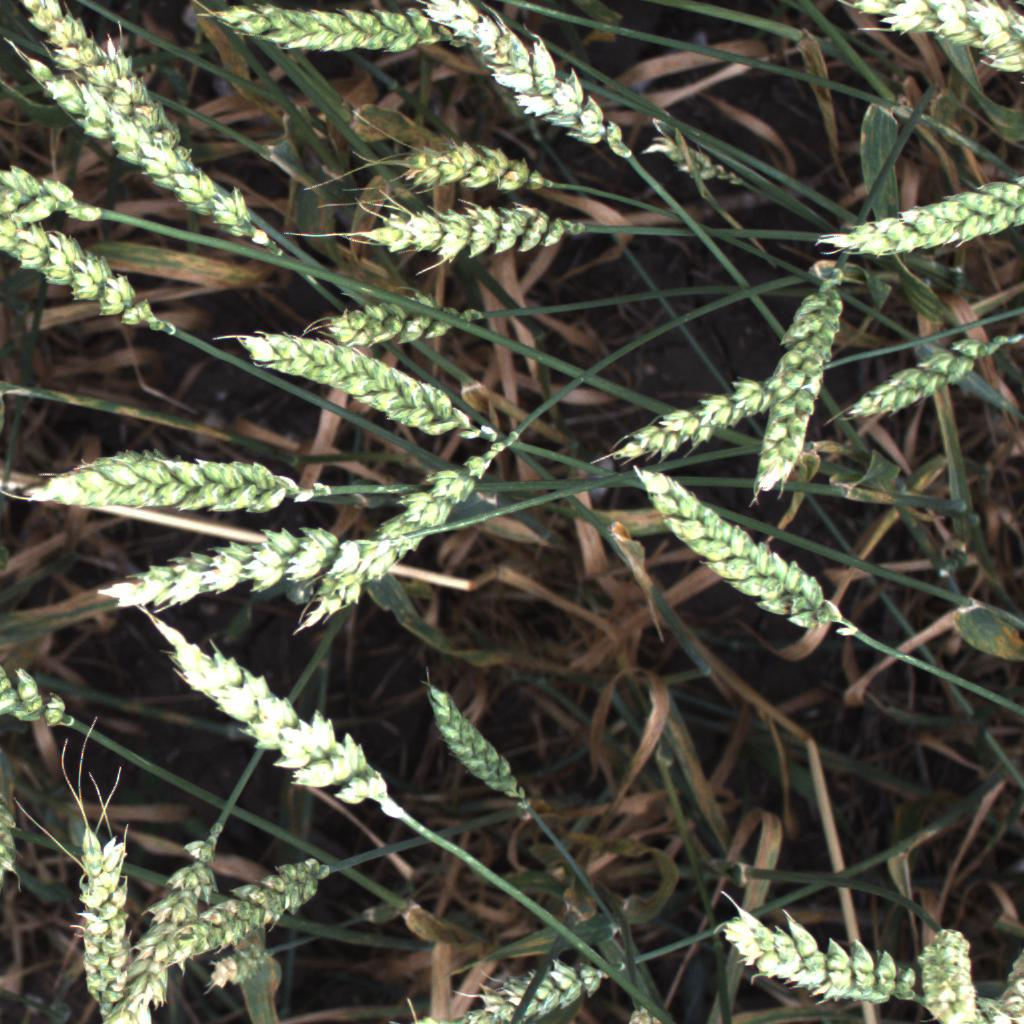0-0: (57, 129, 755, 621), (137, 431, 519, 823), (21, 52, 287, 264), (626, 458, 884, 658), (394, 0, 631, 156), (215, 329, 519, 447), (0, 434, 335, 537), (737, 249, 857, 497), (19, 1, 195, 167), (602, 357, 830, 482), (144, 848, 350, 978), (708, 894, 939, 1009), (0, 206, 182, 345), (346, 168, 578, 271), (118, 816, 228, 1024), (810, 172, 1024, 269), (421, 670, 537, 823), (66, 799, 138, 1024), (218, 0, 443, 69), (360, 131, 547, 214), (834, 0, 1024, 78), (840, 330, 988, 428), (296, 296, 509, 360), (466, 955, 628, 1024), (0, 151, 118, 242), (911, 920, 990, 1024), (0, 651, 81, 736), (190, 940, 281, 994), (0, 782, 34, 910), (889, 0, 1022, 2)
